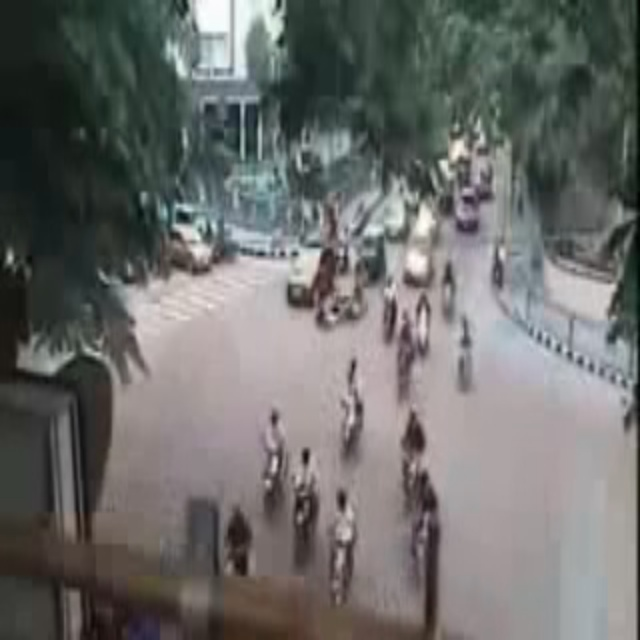acc: (278, 238, 371, 337)
